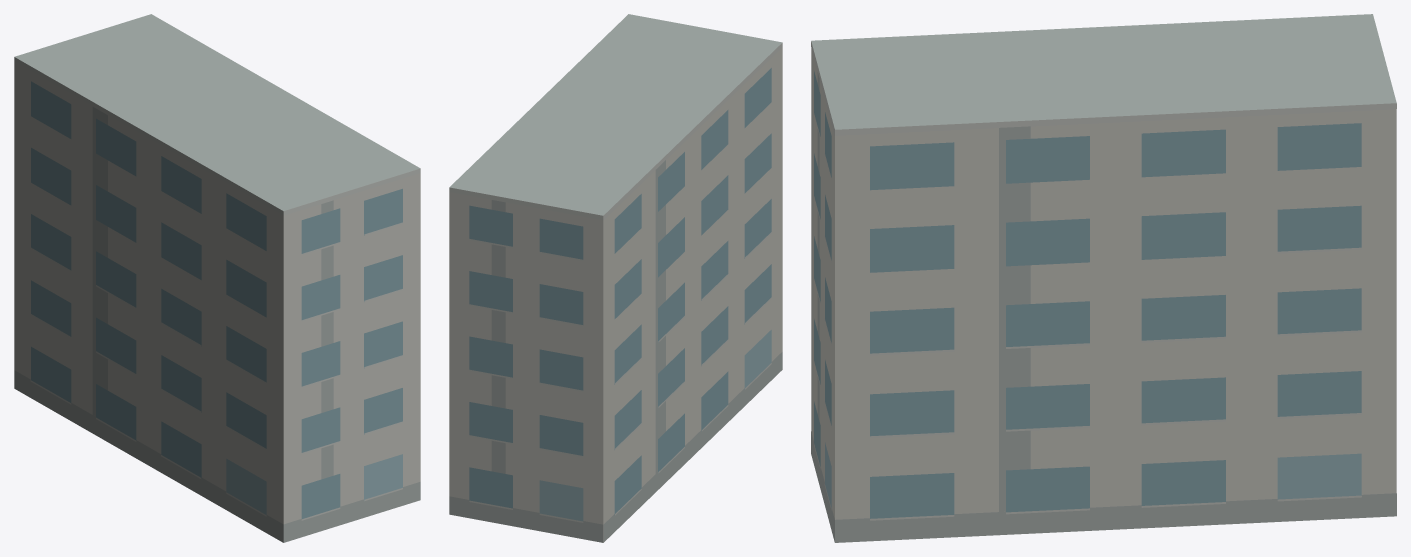
File: survey-upis-33007286.glb
3 views of the same model, side by side, from view 1: azimuth 30°, elevation 25°; view 2: azimuth 150°, elevation 25°; view 3: azimuth 270°, elevation 25° (orthographic). The views are drawn at different scales.
Visible parts, largest first — view 1: survey-upis-33007286.tmp; view 2: survey-upis-33007286.tmp; view 3: survey-upis-33007286.tmp.
Part boxes in pixels (bbox=[...]): survey-upis-33007286.tmp: bbox=[14, 14, 420, 542]; survey-upis-33007286.tmp: bbox=[449, 14, 782, 542]; survey-upis-33007286.tmp: bbox=[811, 14, 1396, 542].
Size of the model in its own units: 10.35 by 17.2 by 22.11.
